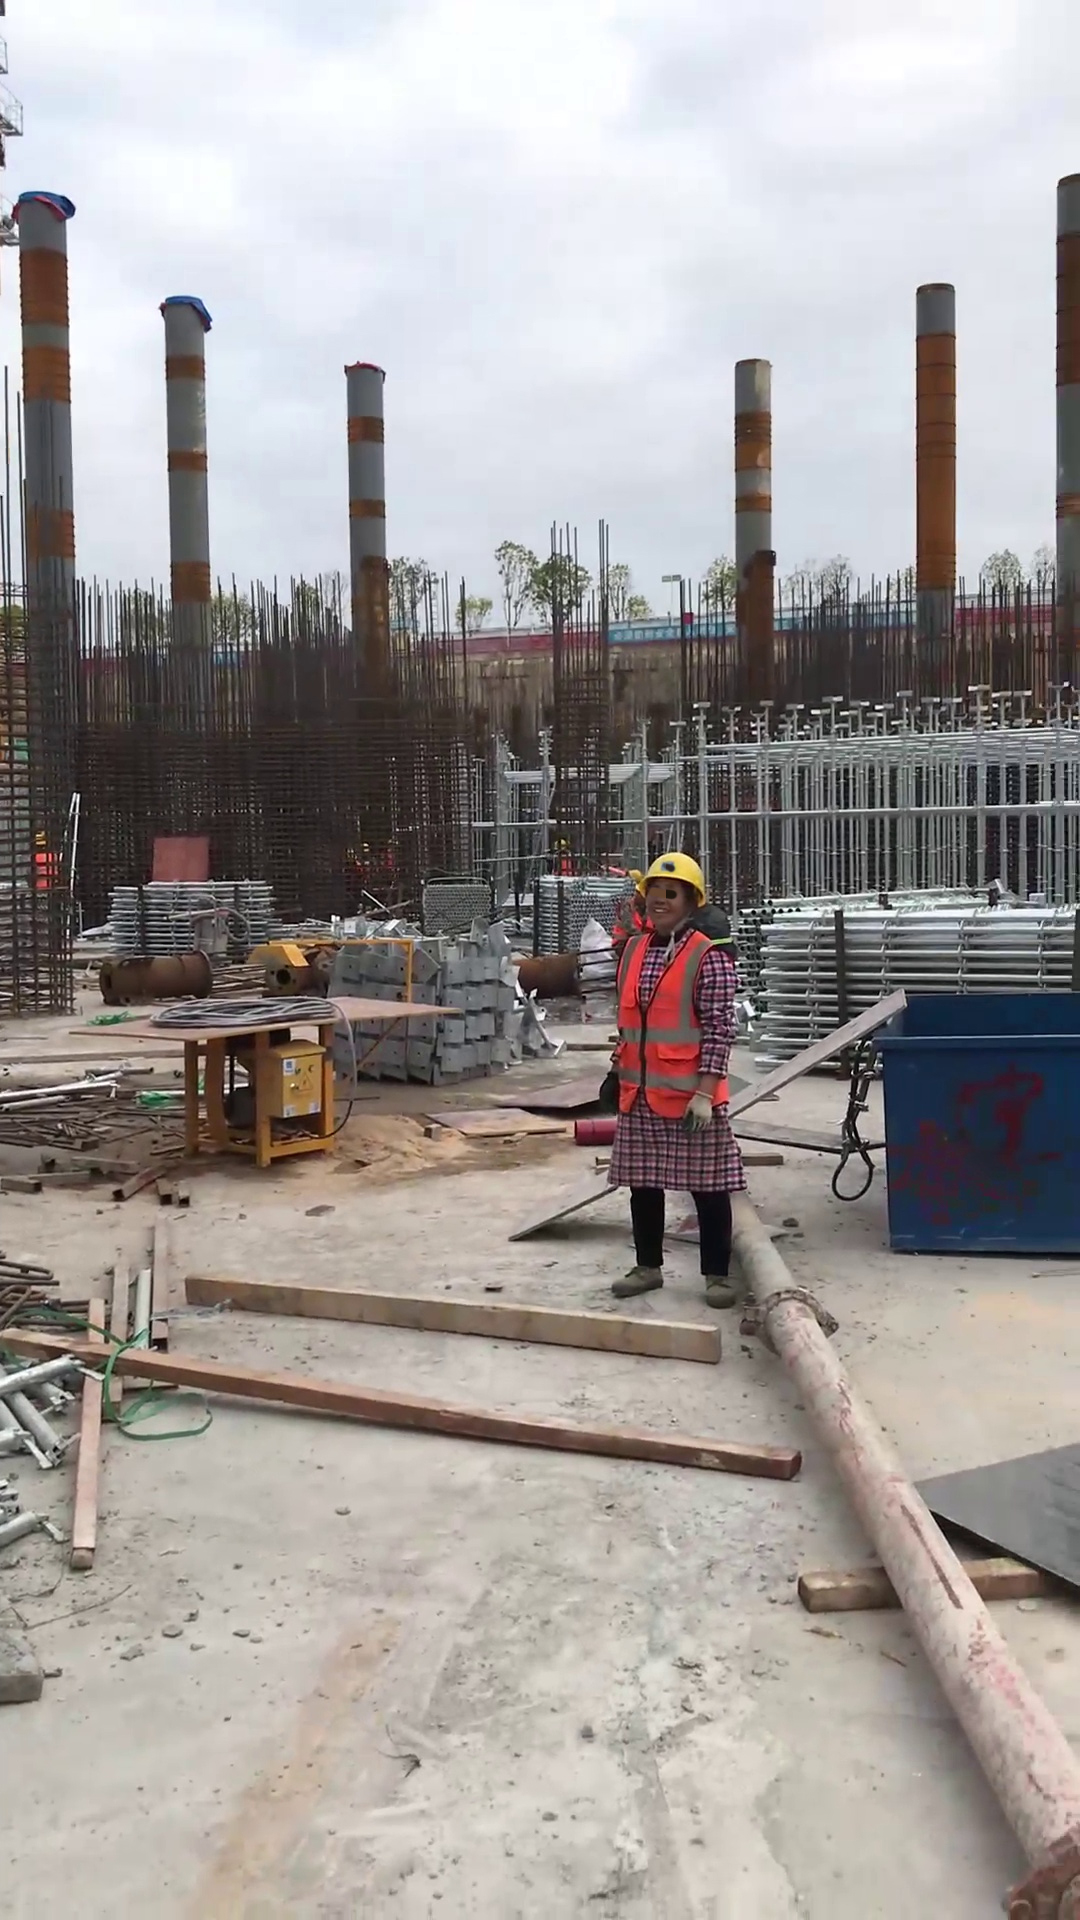cutter: (83, 984, 456, 1177)
helmet: (636, 847, 712, 914)
hopper: (871, 972, 1080, 1262)
person: (597, 846, 760, 1317)
scaffold: (749, 894, 1080, 1070), (95, 873, 289, 976), (532, 866, 636, 963), (418, 871, 502, 944)
slogan: (609, 625, 682, 643)
vest: (608, 928, 737, 1121)
